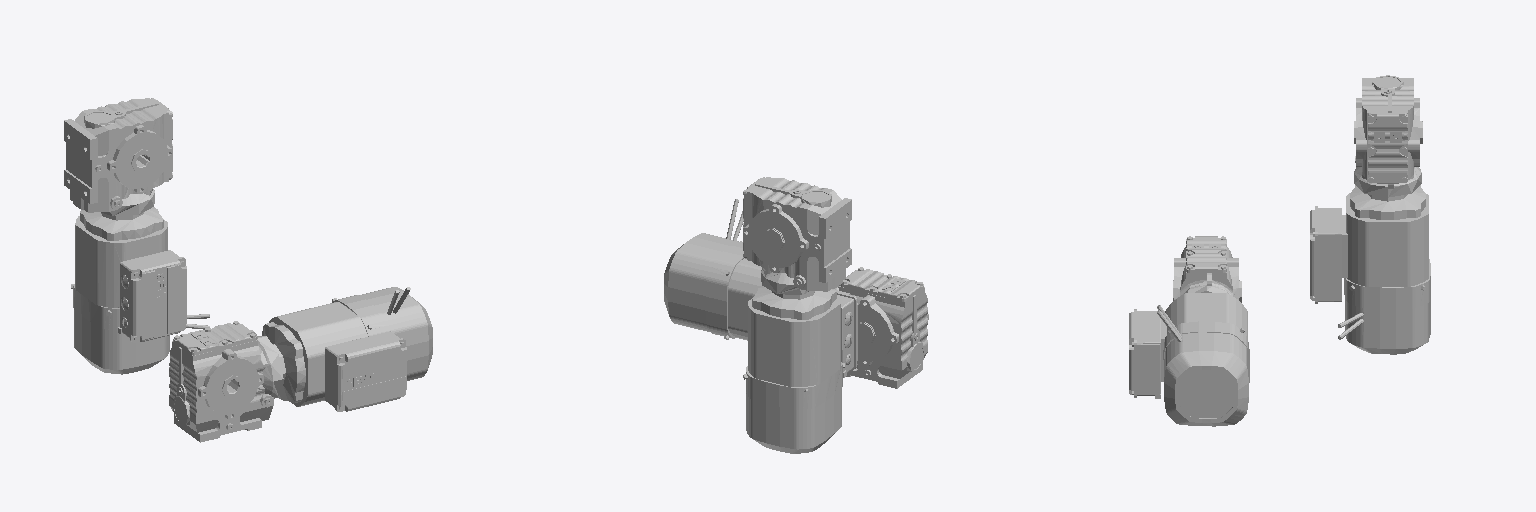
File: SewVH.obj
3 renders of one model, left to right at view 1: azimuth 30°, elevation 25°; view 2: azimuth 150°, elevation 25°; view 3: azimuth 270°, elevation 25°, orthographic.
Parts seen in each view (by area): view 1: SA47DRS80S4BE1HRvkhvvu4tggstiv0znofwqvgu, Sewh; view 2: SA47DRS80S4BE1HRvkhvvu4tggstiv0znofwqvgu, Sewh; view 3: SA47DRS80S4BE1HRvkhvvu4tggstiv0znofwqvgu, Sewh.
Part boxes in pixels (x1,y1,x2,y2): SA47DRS80S4BE1HRvkhvvu4tggstiv0znofwqvgu: (64, 98, 209, 374); Sewh: (169, 287, 432, 442); SA47DRS80S4BE1HRvkhvvu4tggstiv0znofwqvgu: (743, 177, 857, 453); Sewh: (664, 199, 928, 388); SA47DRS80S4BE1HRvkhvvu4tggstiv0znofwqvgu: (1310, 75, 1430, 354); Sewh: (1129, 236, 1249, 426).
Size of the model in its own units: 514 by 489 by 540.